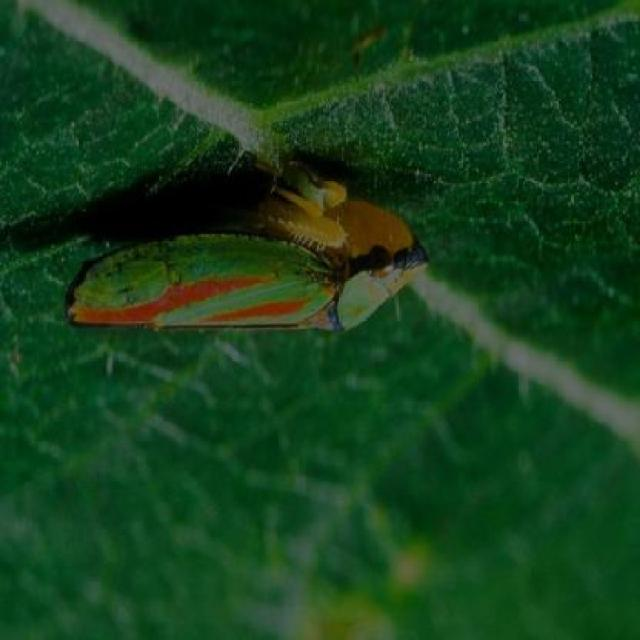green-leafhopper: (65, 200, 428, 338)
